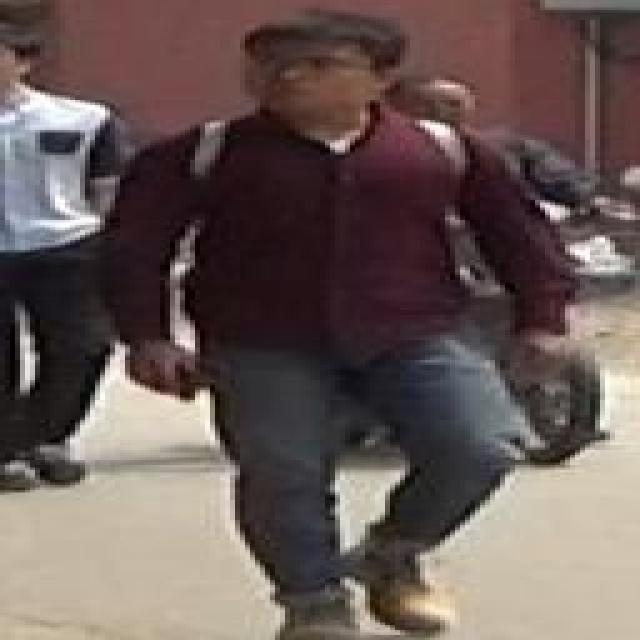adult: (91, 22, 558, 636), (0, 22, 130, 482), (382, 72, 610, 332)
